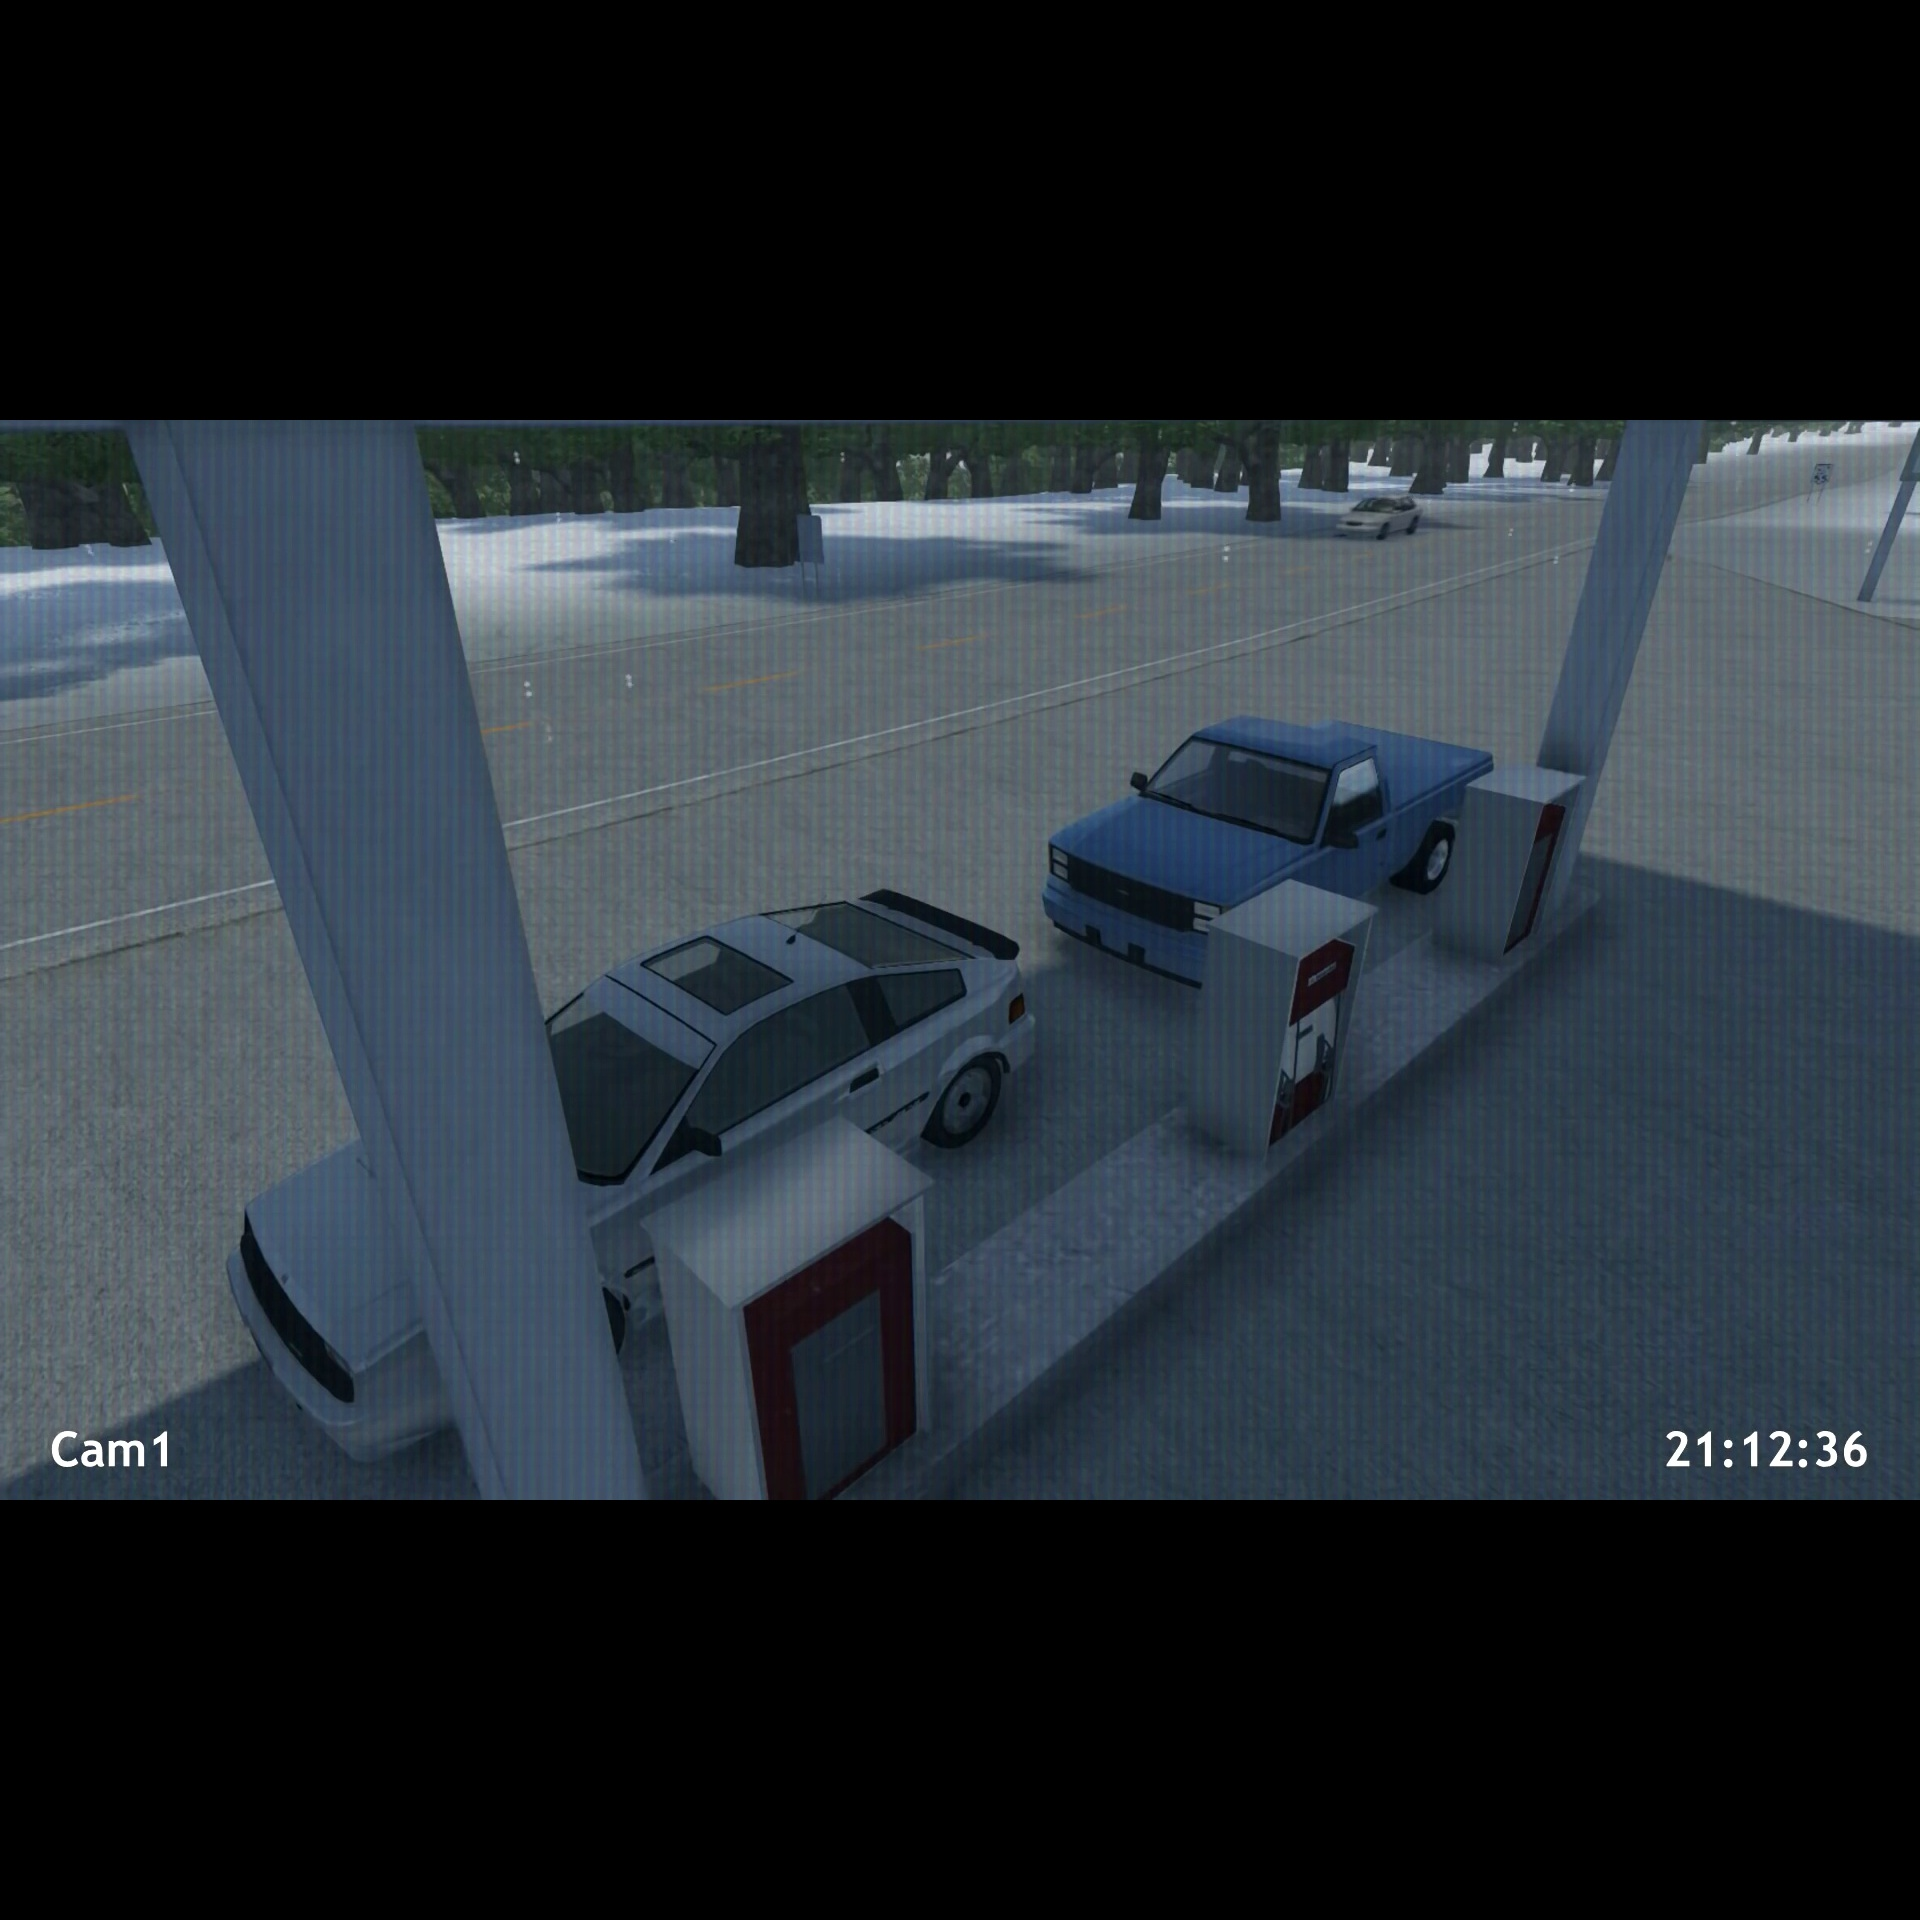vehicle: (223, 884, 1044, 1473), (1039, 703, 1496, 999)
